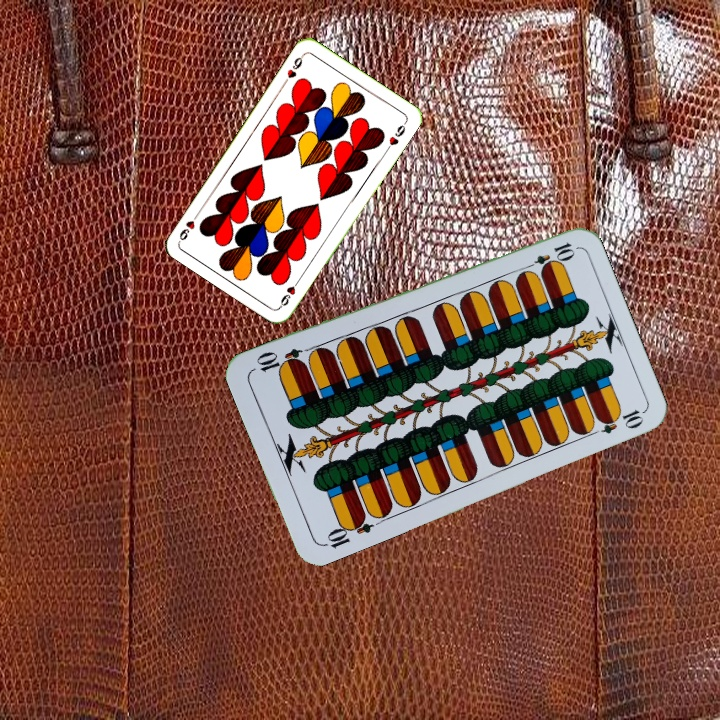E10: (319, 511, 376, 551), (520, 238, 577, 274)
H9: (280, 50, 307, 86), (276, 274, 303, 310)
